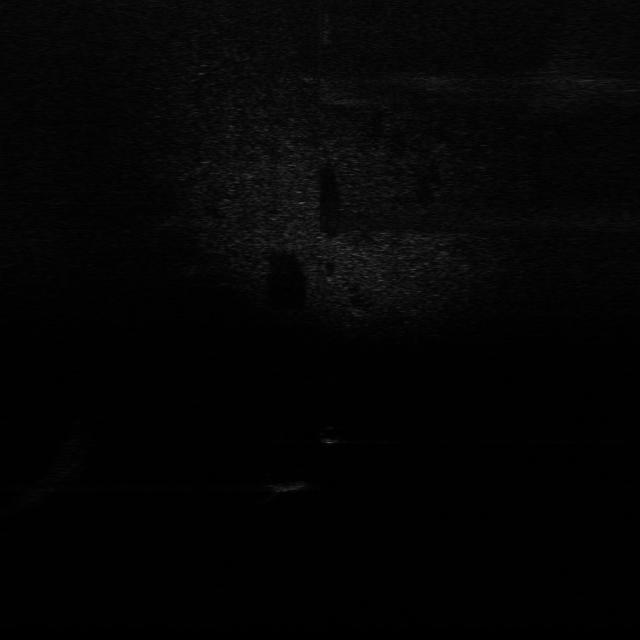ball: (318, 422, 343, 446)
square cage: (259, 473, 322, 494)
